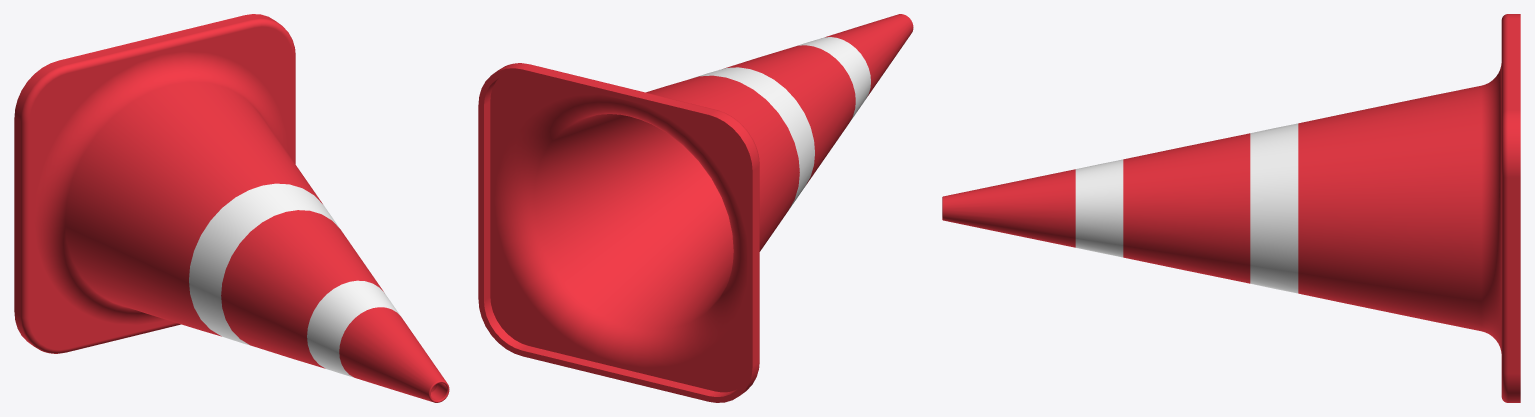
The picture shows the model from 3 angles, left to right: view 1: azimuth 30°, elevation 25°; view 2: azimuth 150°, elevation 25°; view 3: azimuth 270°, elevation 25°; orthographic projection.
Parts seen in each view (by area): view 1: Body1; view 2: Body1; view 3: Body1.
Boxes of the visible parts, bbox=[...] form: Body1: bbox=[14, 14, 449, 402]; Body1: bbox=[478, 14, 913, 402]; Body1: bbox=[942, 14, 1520, 402].
Size of the model in its own units: 500 by 500 by 910.
